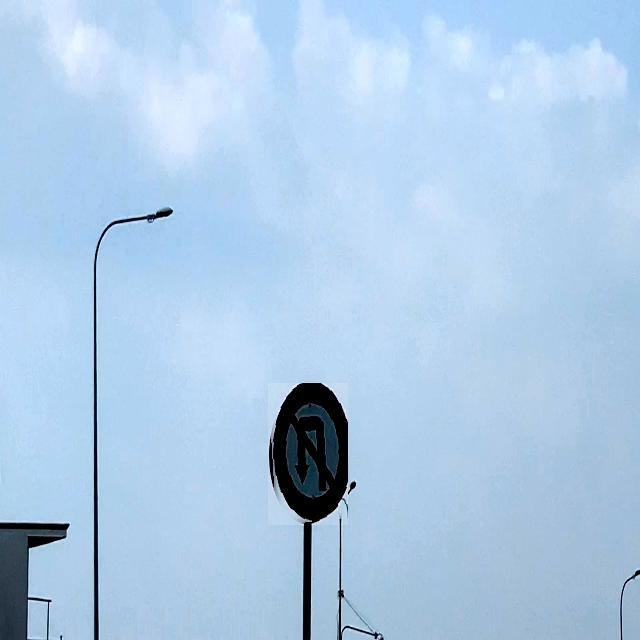bien_cam: (268, 383, 348, 525)
